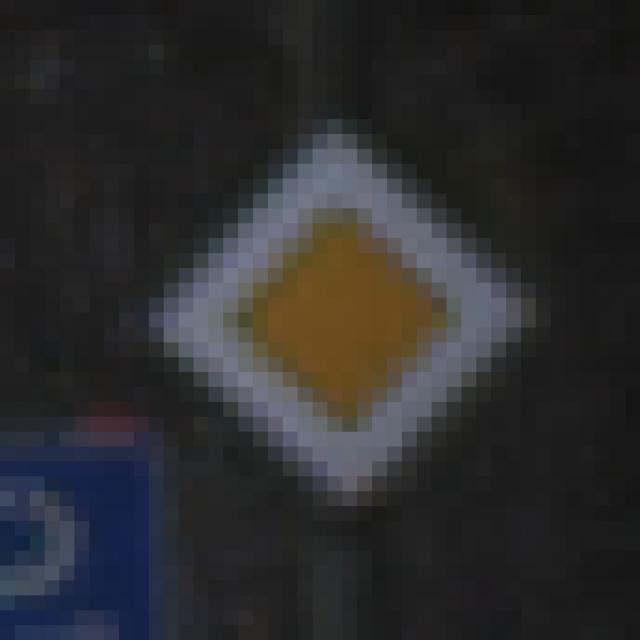Main Road: (90, 90, 567, 567)
